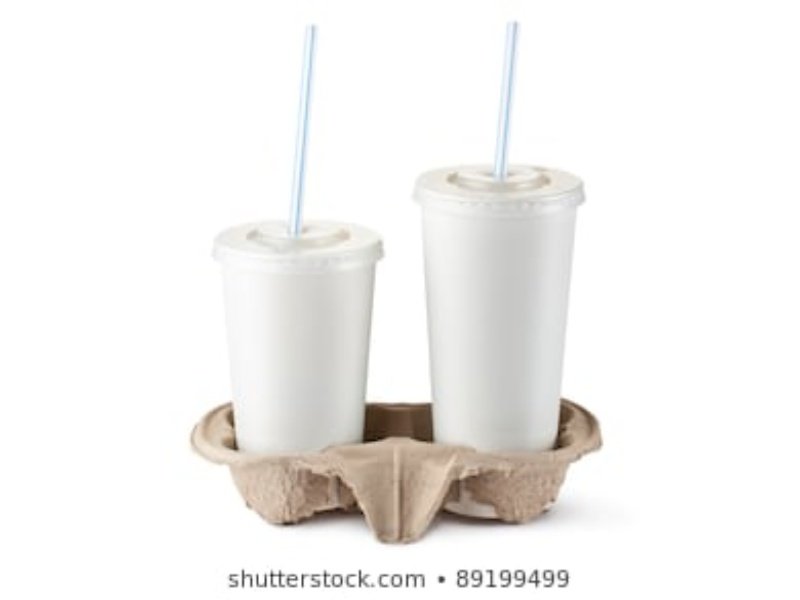straw: (287, 22, 319, 238), (494, 15, 523, 177)
